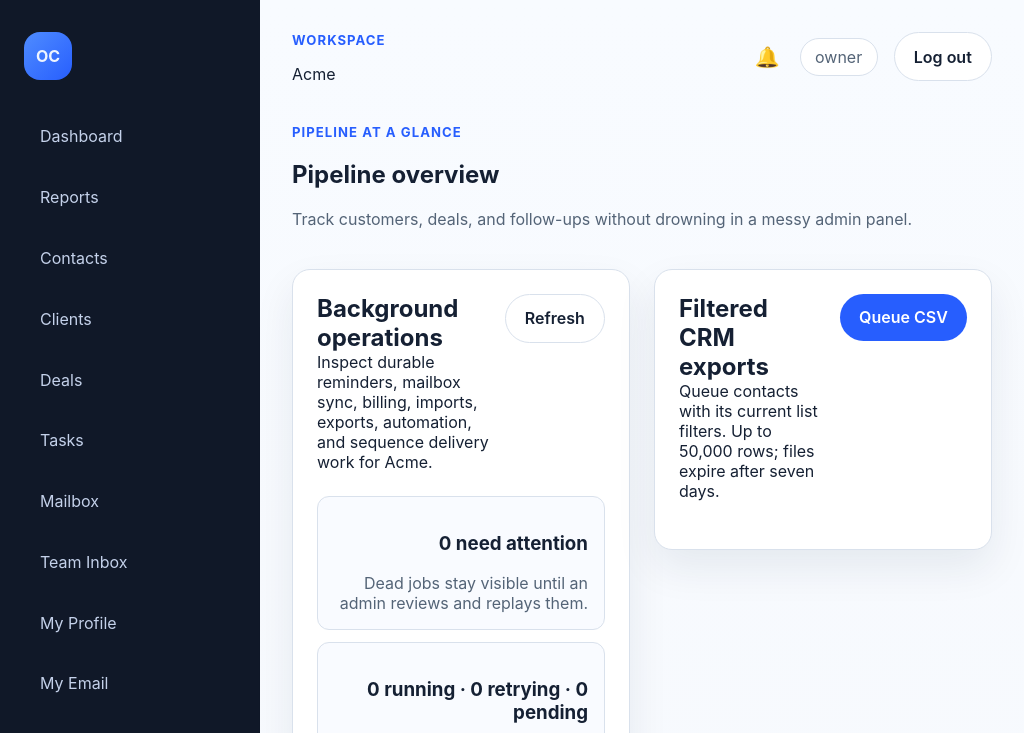
settings operations route › reuses the export idempotency key after an ambiguous request failure
Click the button "Queue CSV" at (903, 317), box [840, 294, 967, 341]
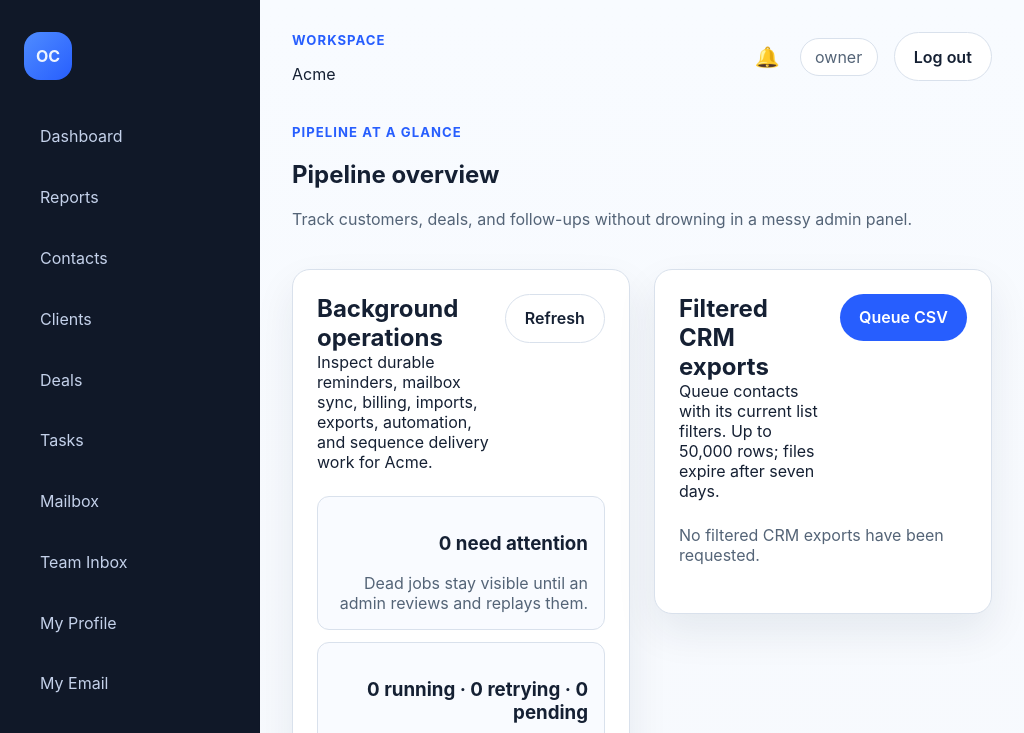
Click the button "Queue CSV" at (903, 317), box [840, 294, 967, 341]
(page scrolled)
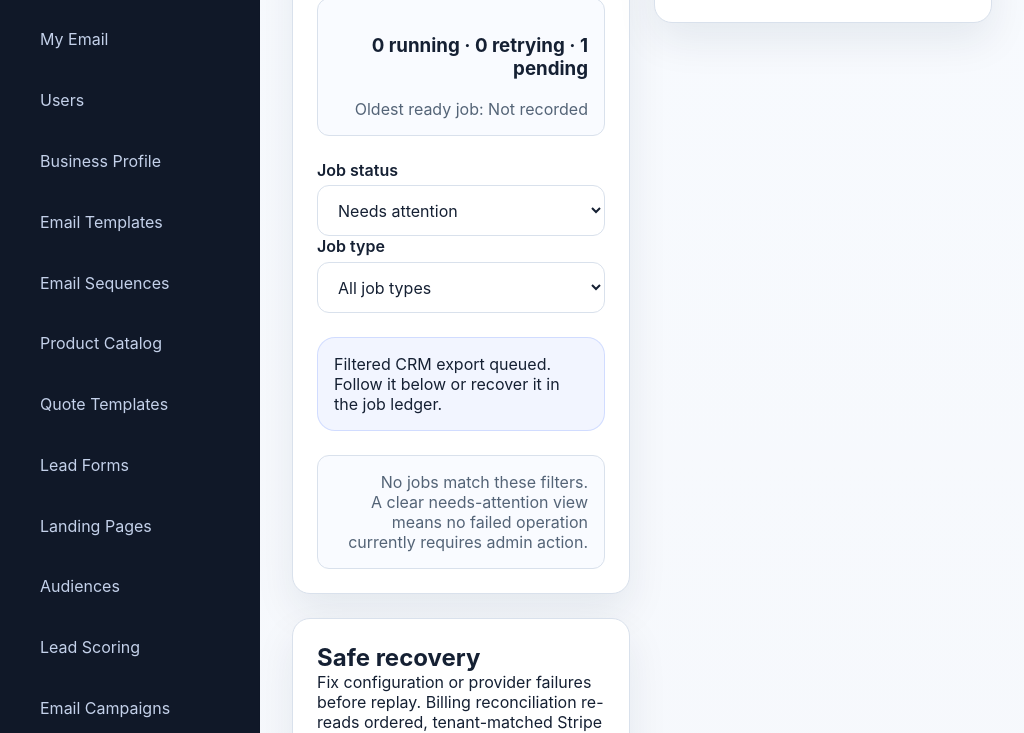
Now the text "Filtered CRM export queued. Follow it below or recover it in the job ledger." is shown, box [317, 337, 605, 431]
